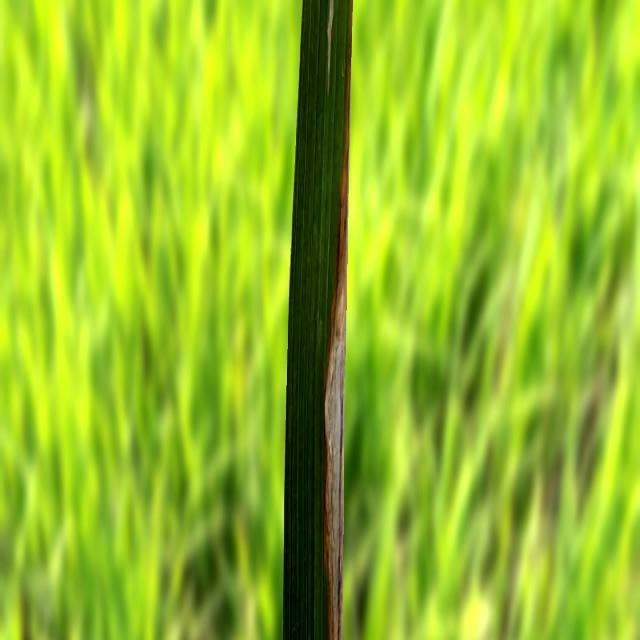BLB: (323, 0, 352, 640)
